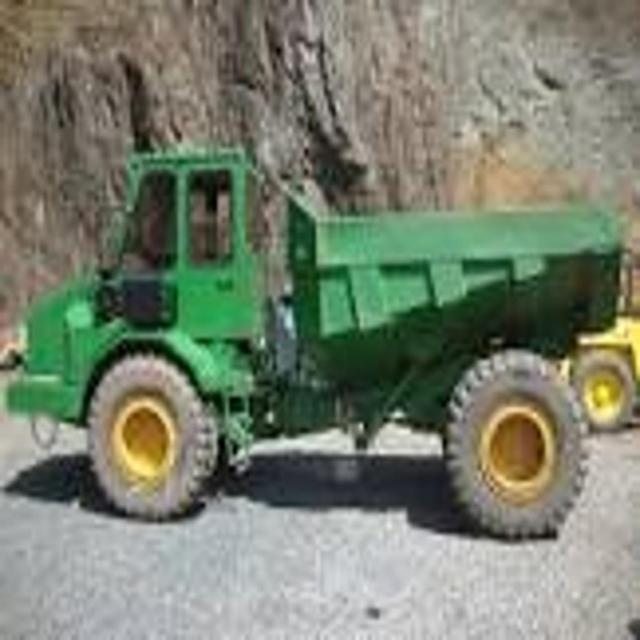dump_truck: (8, 132, 628, 560)
